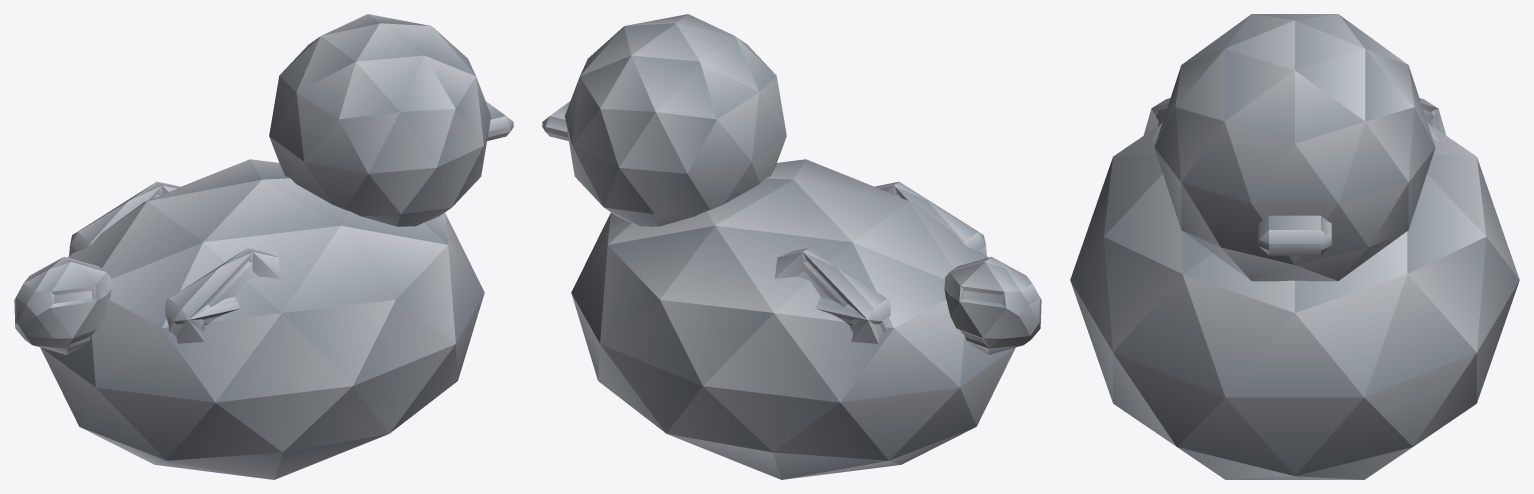
The model's file is dt_giant_duck.fbx.
The picture shows the model from 3 angles, left to right: view 1: azimuth 30°, elevation 25°; view 2: azimuth 150°, elevation 25°; view 3: azimuth 270°, elevation 25°; orthographic projection. The views are drawn at different scales.
Visible parts, largest first — view 1: dt_giant_duck; view 2: dt_giant_duck; view 3: dt_giant_duck.
Boxes of the visible parts, box(x1,y1,x2,y2) form: dt_giant_duck: box(14, 14, 513, 479); dt_giant_duck: box(542, 14, 1041, 479); dt_giant_duck: box(1070, 14, 1519, 479).
Size of the model in its own units: 3500 by 2802 by 2264.
